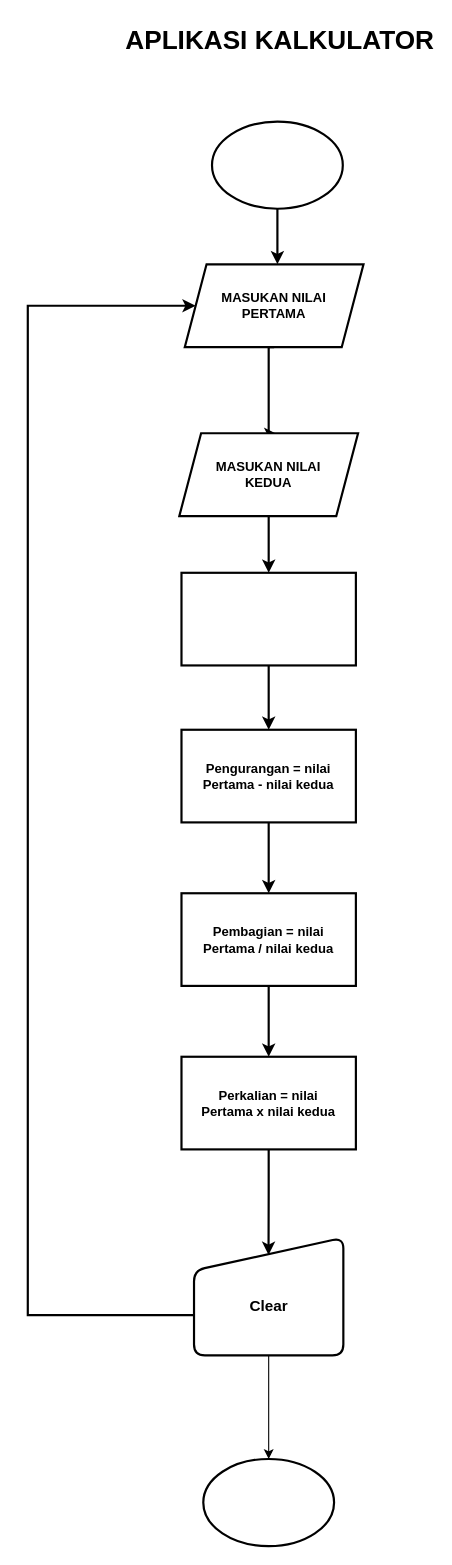
This 452x1565 diagram has some shape labels left out. Each missing label, with the box of its shape:
MULAI: (210, 120, 343, 209)
Penjumlahan = nilai Pertama + nilai kedua: (180, 571, 356, 666)
SELESAI: (202, 1457, 335, 1547)
